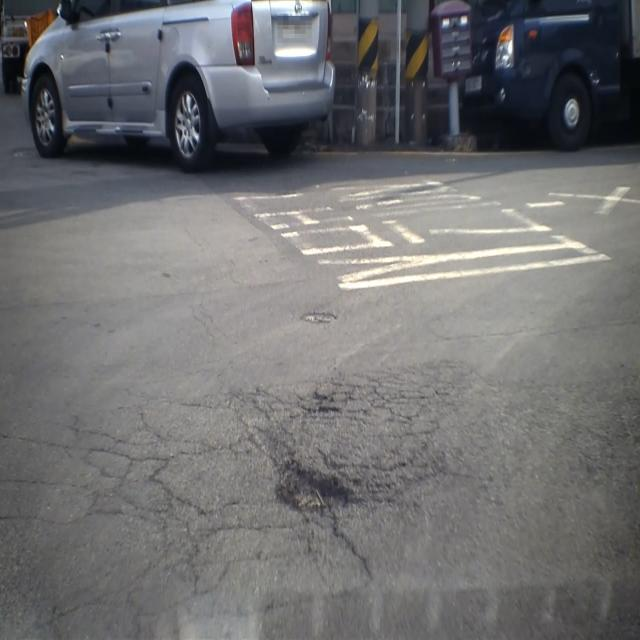pothole: (254, 429, 361, 535)
